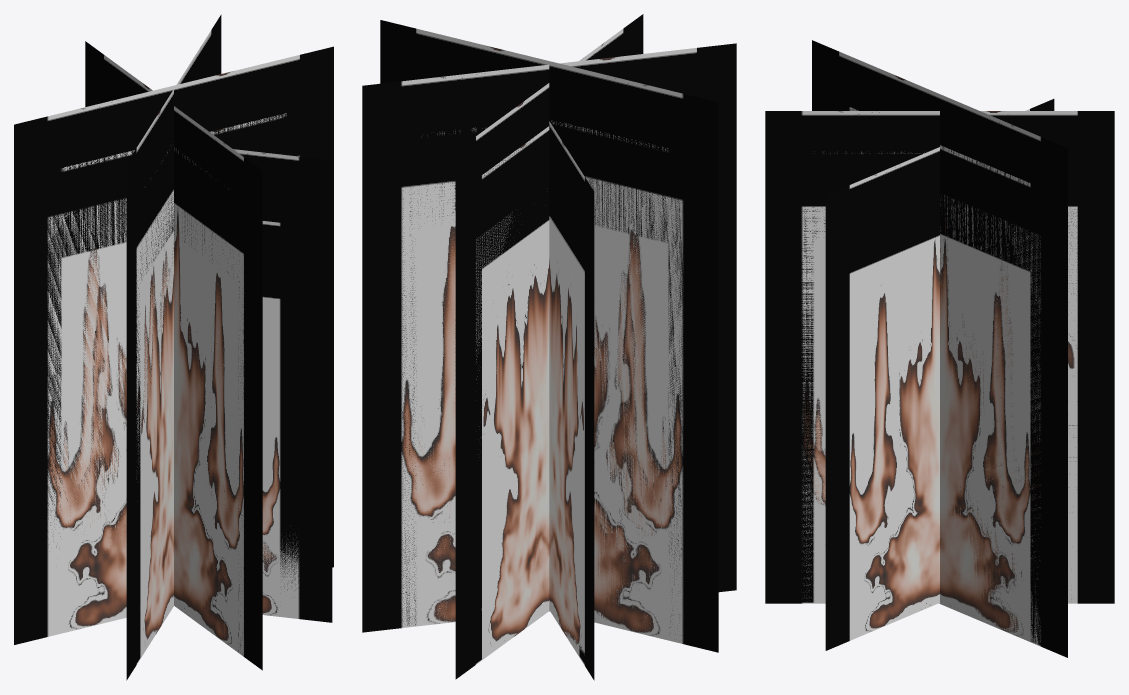
File: fire.fbx
3 renders of one model, left to right at view 1: azimuth 30°, elevation 25°; view 2: azimuth 150°, elevation 25°; view 3: azimuth 270°, elevation 25°, orthographic. The views are drawn at different scales.
Visible parts, largest first — view 1: Animated Fire Sprite.008, Animated Fire Sprite.001, Animated Fire Sprite.004, Animated Fire Sprite.002, Animated Fire Sprite.006, Animated Fire Sprite.007, Animated Fire Sprite.003, Animated Fire Sprite.005; view 2: Animated Fire Sprite.008, Animated Fire Sprite.003, Animated Fire Sprite.005, Animated Fire Sprite.004, Animated Fire Sprite.002, Animated Fire Sprite.001, Animated Fire Sprite.007; view 3: Animated Fire Sprite.001, Animated Fire Sprite.007, Animated Fire Sprite.002, Animated Fire Sprite.003, Animated Fire Sprite.005.
Part boxes in pixels (x1=…): Animated Fire Sprite.008: x1=14, y1=46, x2=333, y2=644; Animated Fire Sprite.001: x1=85, y1=41, x2=262, y2=670; Animated Fire Sprite.004: x1=31, y1=106, x2=316, y2=612; Animated Fire Sprite.002: x1=233, y1=149, x2=332, y2=622; Animated Fire Sprite.006: x1=262, y1=221, x2=308, y2=593; Animated Fire Sprite.007: x1=131, y1=73, x2=216, y2=671; Animated Fire Sprite.003: x1=126, y1=14, x2=221, y2=680; Animated Fire Sprite.005: x1=92, y1=88, x2=255, y2=663; Animated Fire Sprite.008: x1=380, y1=20, x2=718, y2=652; Animated Fire Sprite.003: x1=362, y1=43, x2=736, y2=632; Animated Fire Sprite.005: x1=463, y1=126, x2=549, y2=672; Animated Fire Sprite.004: x1=551, y1=120, x2=700, y2=642; Animated Fire Sprite.002: x1=549, y1=121, x2=594, y2=680; Animated Fire Sprite.001: x1=455, y1=14, x2=643, y2=679; Animated Fire Sprite.007: x1=381, y1=100, x2=717, y2=628; Animated Fire Sprite.001: x1=765, y1=111, x2=1114, y2=603; Animated Fire Sprite.007: x1=825, y1=97, x2=1054, y2=650; Animated Fire Sprite.002: x1=825, y1=99, x2=1054, y2=650; Animated Fire Sprite.003: x1=812, y1=40, x2=1067, y2=657; Animated Fire Sprite.005: x1=780, y1=151, x2=1099, y2=602.
Size of the model in its own units: 124 by 192 by 119.
